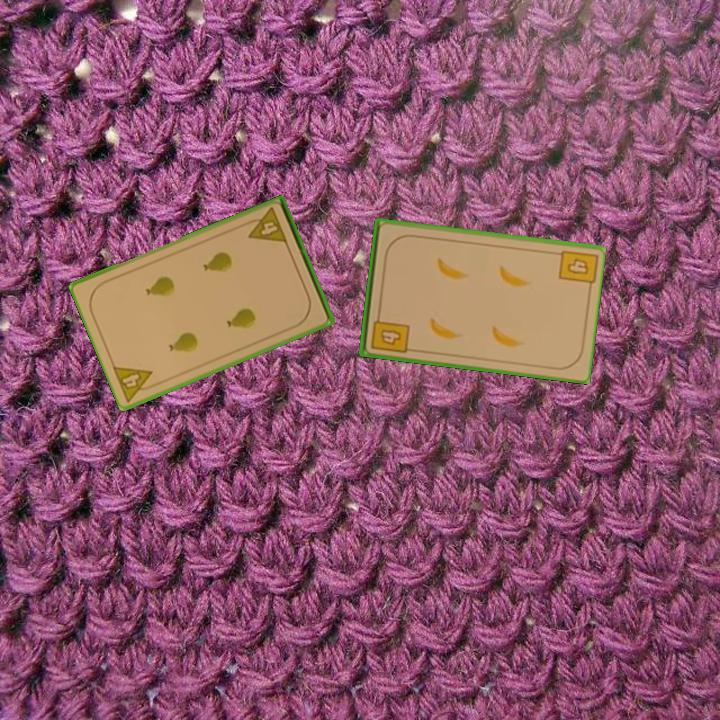4b: (367, 308, 411, 356), (564, 254, 592, 278)
4p: (109, 362, 162, 405), (241, 204, 290, 246)
